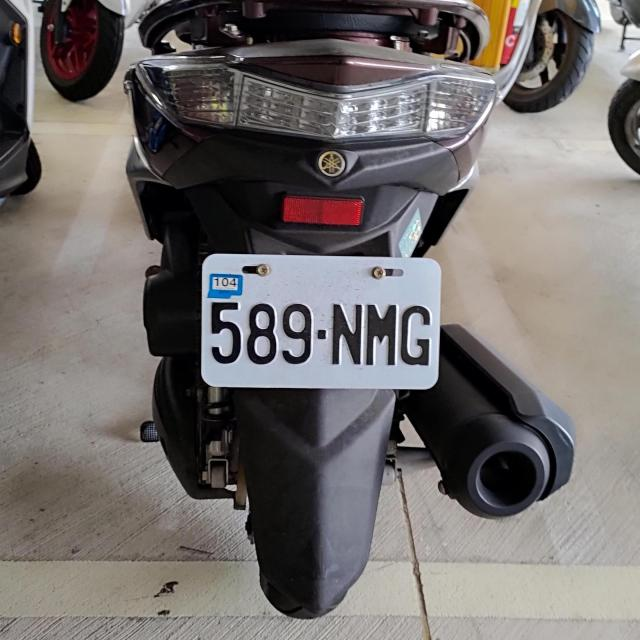W: (199, 254, 444, 389)
